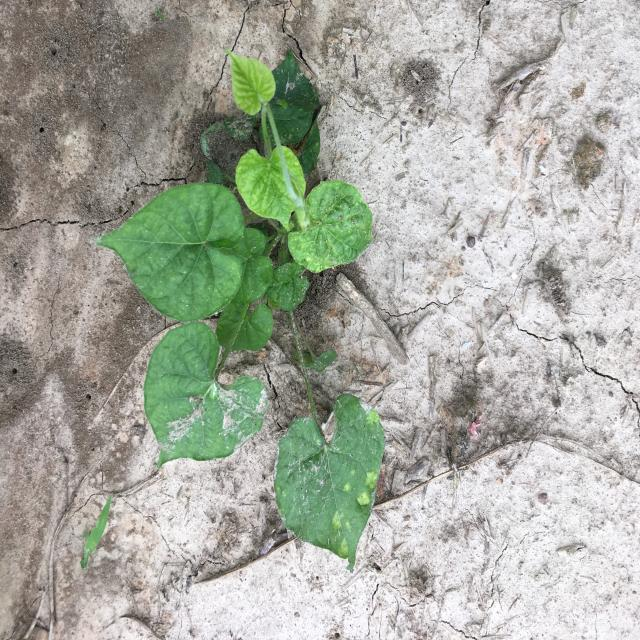MorningGlory: (89, 49, 385, 571)
